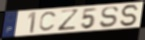1: (27, 11, 38, 35)
5: (80, 7, 99, 30)
C: (38, 11, 58, 33)
S: (119, 4, 141, 28), (99, 6, 120, 29)
Z: (57, 9, 81, 33)
